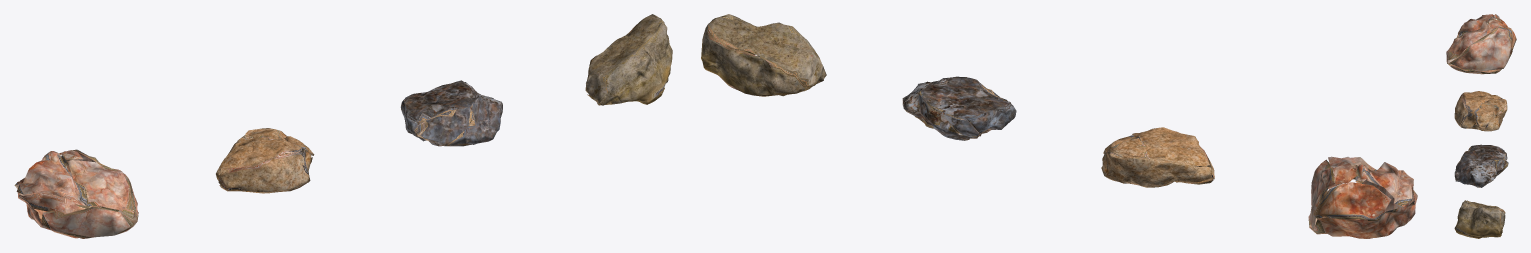
Rendered from namaqualand_rocks_01.gltf.
The picture shows the model from 3 angles, left to right: view 1: azimuth 30°, elevation 25°; view 2: azimuth 150°, elevation 25°; view 3: azimuth 270°, elevation 25°; orthographic projection. The views are drawn at different scales.
Parts seen in each view (by area): view 1: namaqualand_rocks_02_a, namaqualand_rocks_02_d, namaqualand_rocks_02_c, namaqualand_rocks_02_b; view 2: namaqualand_rocks_02_d, namaqualand_rocks_02_a, namaqualand_rocks_02_b, namaqualand_rocks_02_c; view 3: namaqualand_rocks_02_a, namaqualand_rocks_02_b, namaqualand_rocks_02_c, namaqualand_rocks_02_d.
Part boxes in pixels (box(x1,y1,x2,y2)): namaqualand_rocks_02_a: box(14, 149, 138, 238); namaqualand_rocks_02_d: box(585, 14, 672, 105); namaqualand_rocks_02_c: box(400, 80, 502, 146); namaqualand_rocks_02_b: box(216, 128, 314, 193); namaqualand_rocks_02_d: box(701, 14, 826, 96); namaqualand_rocks_02_a: box(1308, 156, 1417, 238); namaqualand_rocks_02_b: box(1101, 127, 1214, 187); namaqualand_rocks_02_c: box(902, 76, 1016, 140); namaqualand_rocks_02_a: box(1446, 14, 1516, 74); namaqualand_rocks_02_b: box(1454, 91, 1507, 131); namaqualand_rocks_02_c: box(1454, 144, 1508, 187); namaqualand_rocks_02_d: box(1454, 200, 1505, 238).
Bounding box in the file's own units: 1.45 × 0.1526 × 0.2146.
Materials: 1 (1 with a texture image).
